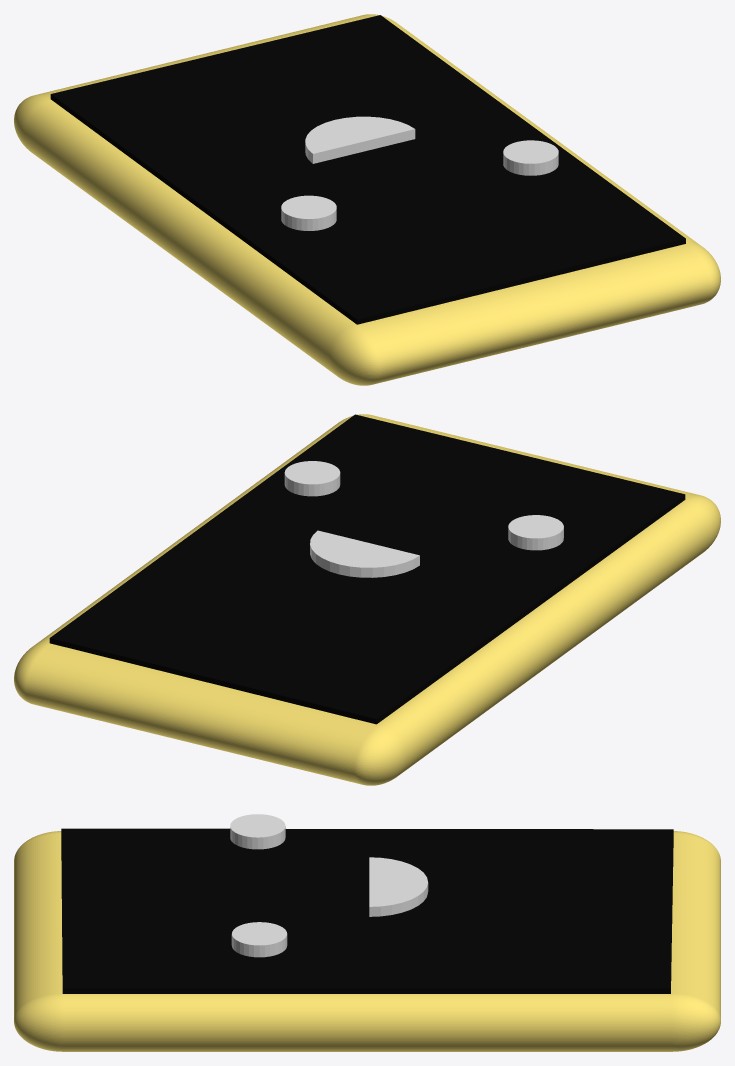
Rendered from yPhone.fbx.
3 renders of one model, top to bottom at view 1: azimuth 30°, elevation 25°; view 2: azimuth 150°, elevation 25°; view 3: azimuth 270°, elevation 25°, orthographic.
Visible parts, largest first — view 1: yScreen, yPhone, yFace; view 2: yScreen, yPhone, yFace; view 3: yScreen, yPhone, yFace.
Boxes of the visible parts, left/top/right/bottom form: yScreen: left=50, top=15, right=685, bottom=324; yPhone: left=14, top=14, right=720, bottom=385; yFace: left=281, top=116, right=558, bottom=230; yScreen: left=49, top=414, right=685, bottom=724; yPhone: left=14, top=414, right=720, bottom=785; yFace: left=284, top=461, right=563, bottom=577; yScreen: left=61, top=828, right=673, bottom=993; yPhone: left=14, top=831, right=720, bottom=1051; yFace: left=230, top=814, right=428, bottom=957.
Size of the model in its own units: 99.37 by 23.83 by 160.
